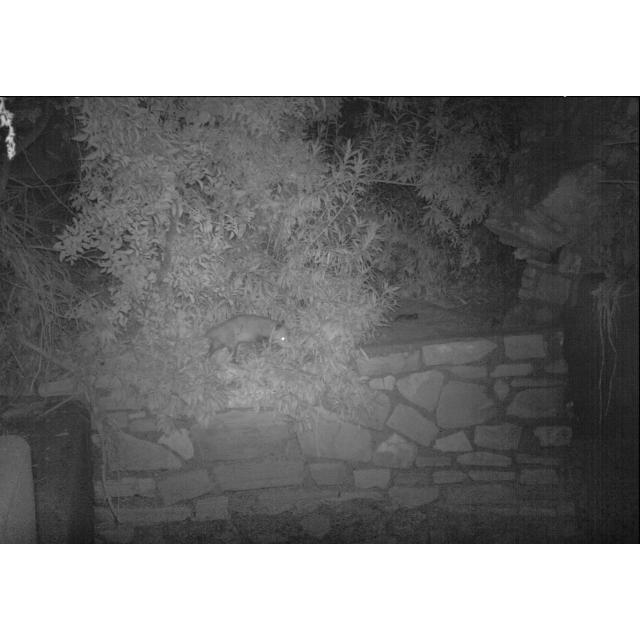animals: (154, 316, 294, 360)
